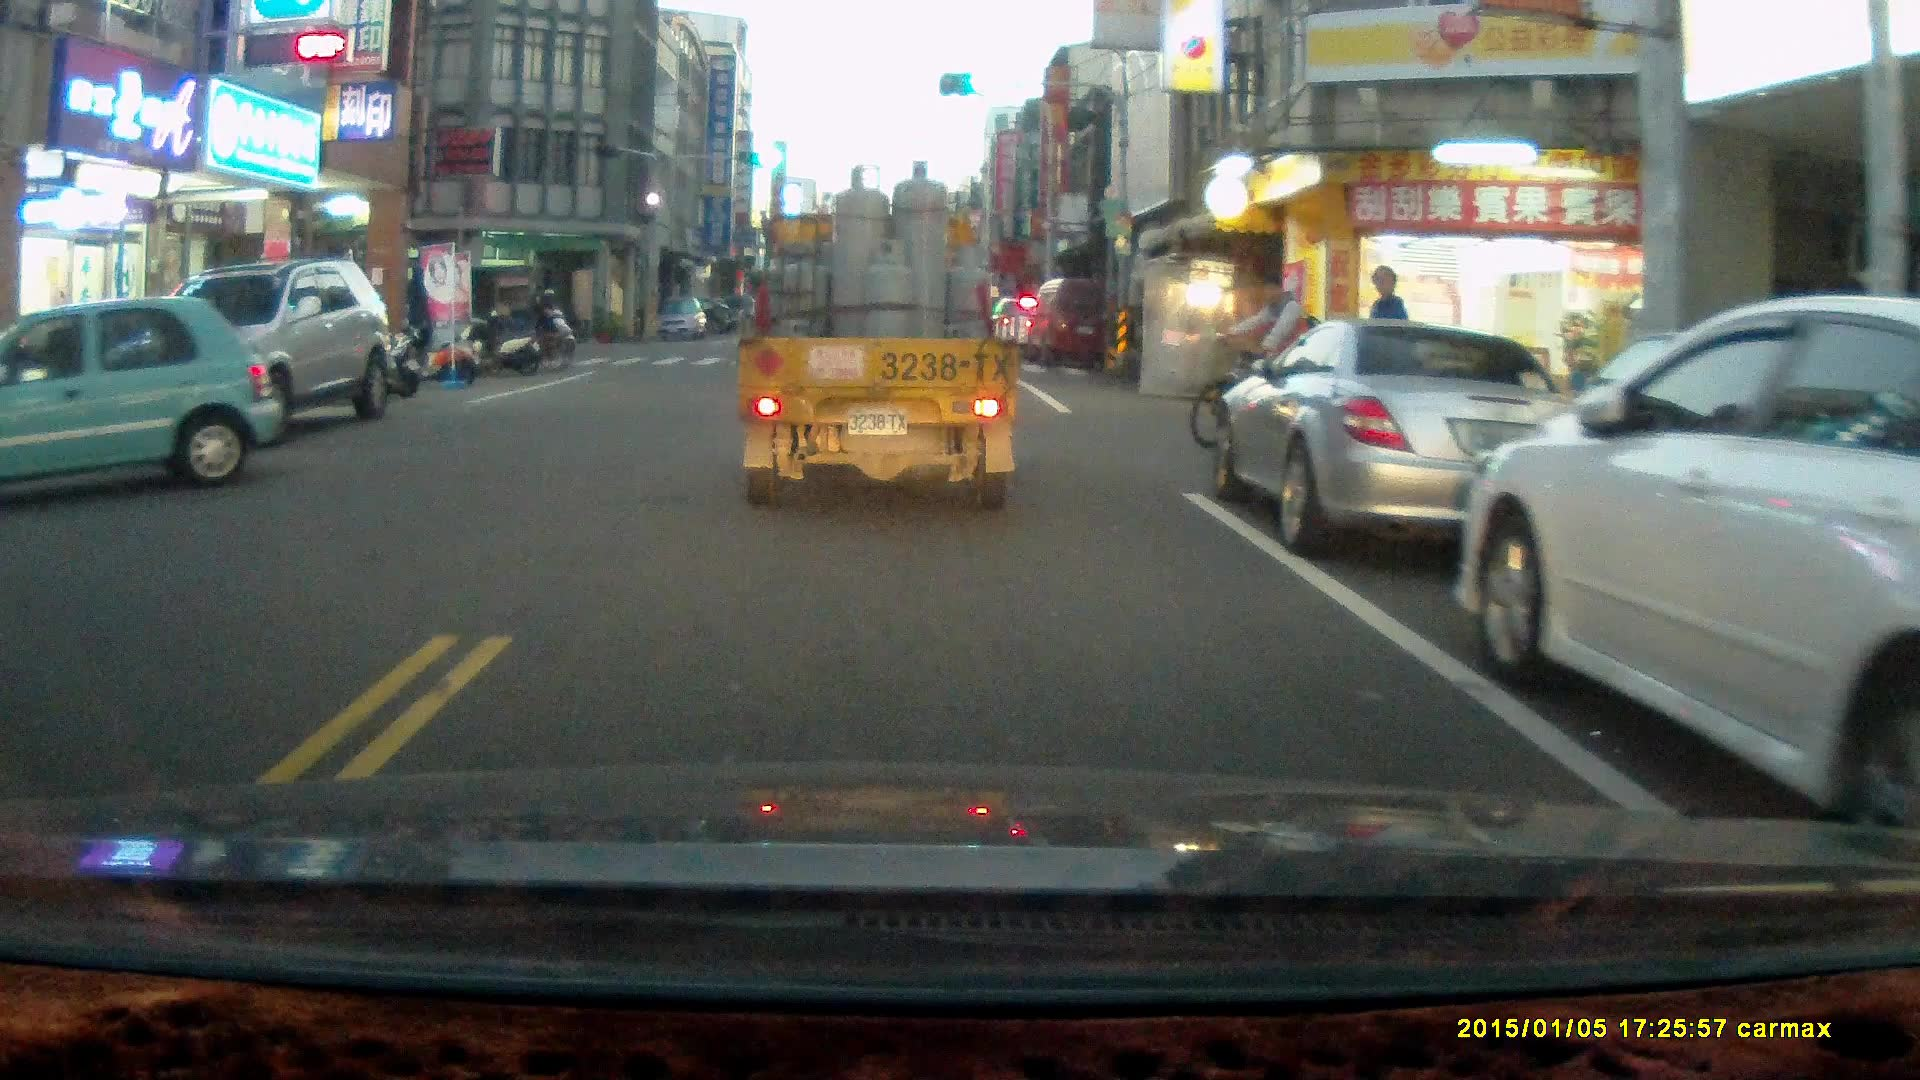rider: (1190, 270, 1352, 453), (516, 284, 579, 360)
vehicle: (1456, 287, 1920, 842), (736, 162, 1026, 515), (1215, 322, 1608, 558), (1, 294, 281, 494), (130, 257, 397, 439), (333, 261, 542, 365), (1030, 273, 1133, 371), (656, 296, 709, 344)
